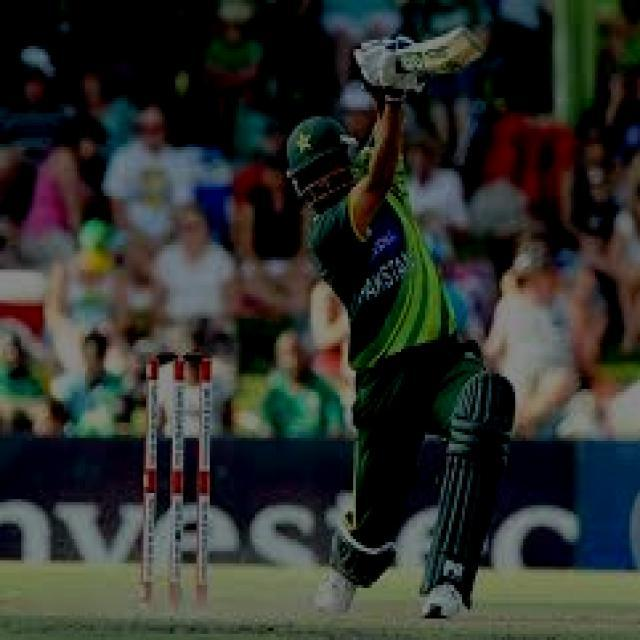bat: (378, 19, 490, 83)
toe: (461, 19, 489, 58)
